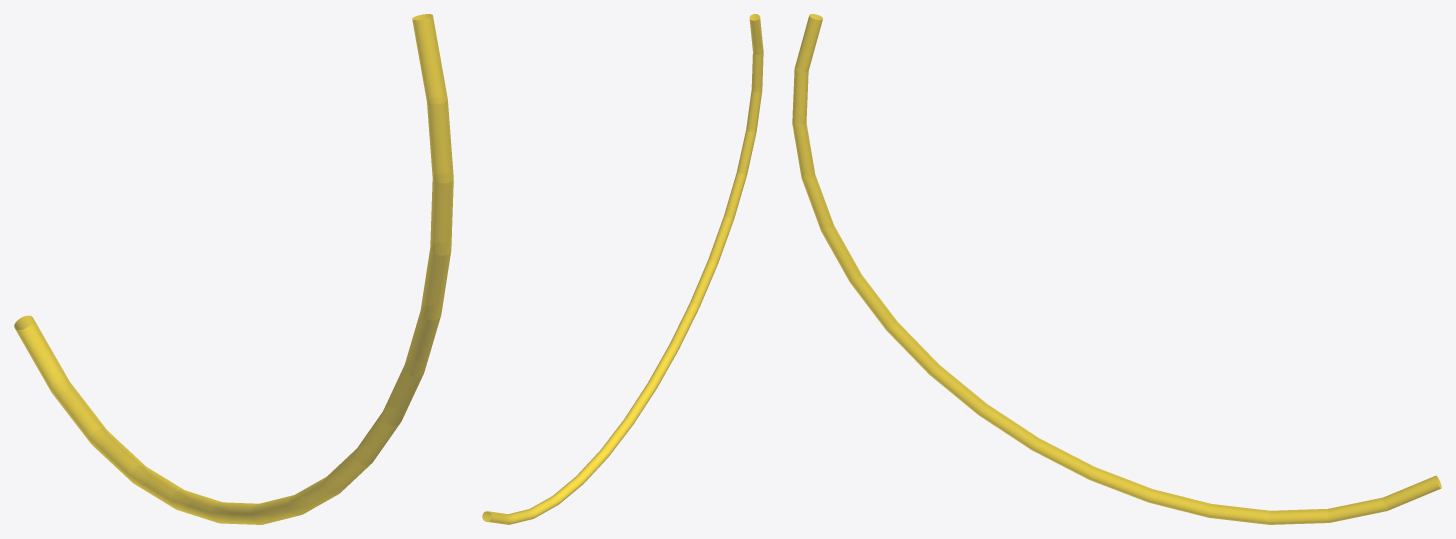
File: Event_17758602_track_62.fbx
3 renders of one model, left to right at view 1: azimuth 30°, elevation 25°; view 2: azimuth 150°, elevation 25°; view 3: azimuth 270°, elevation 25°, orthographic. The views are drawn at different scales.
Parts seen in each view (by area): view 1: Model; view 2: Model; view 3: Model.
Boxes of the visible parts, bbox=[...] form: Model: bbox=[14, 14, 453, 524]; Model: bbox=[482, 14, 763, 524]; Model: bbox=[792, 14, 1441, 524].
Size of the model in its own units: 0.1805 by 1.52 by 1.82.
